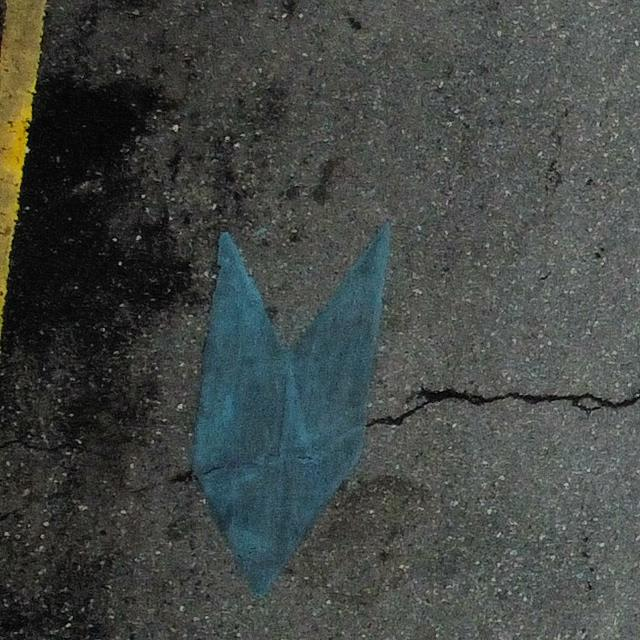TransverseCrack: (364, 384, 640, 430)
